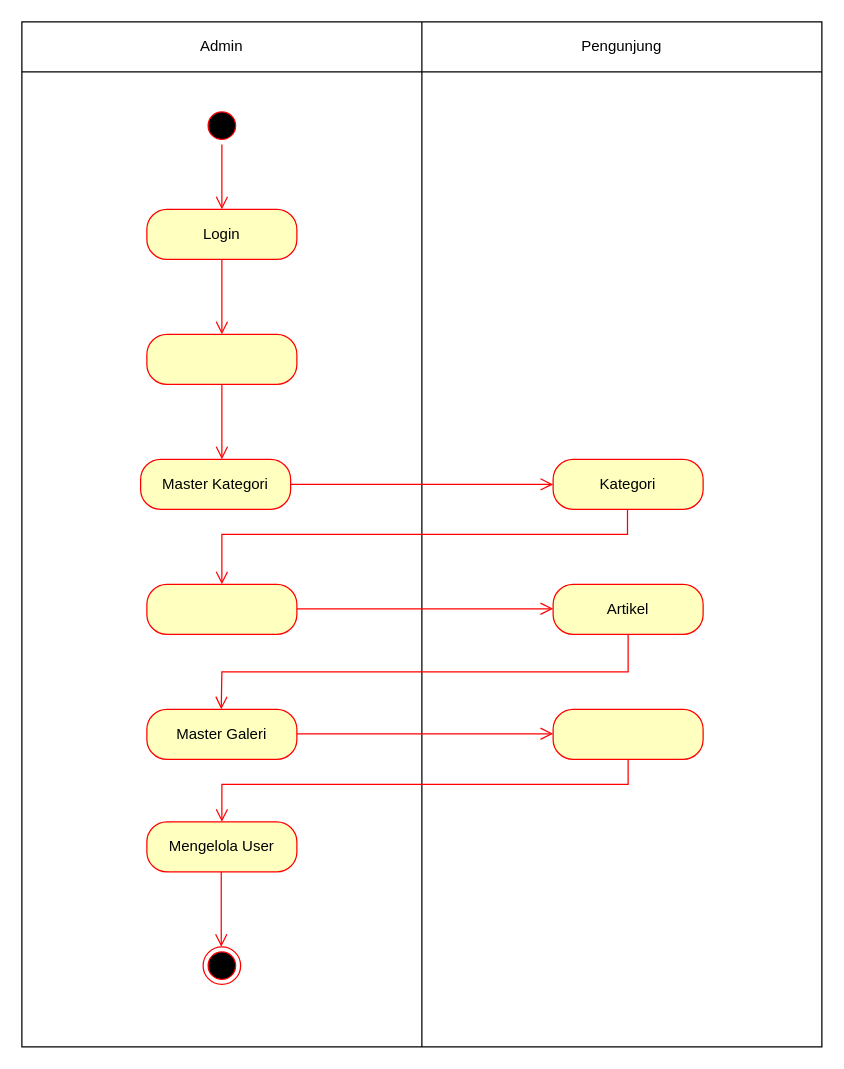
The diagram is 844 pixels wide and 1069 high, and some of its shapes have lost their labels. Here are the shapes that lost their labels. From the top down, the centre of each, then its label:
the point at 221,358: Halaman BackEnd
the point at 221,608: Master Artikel
the point at 627,733: Galeri
